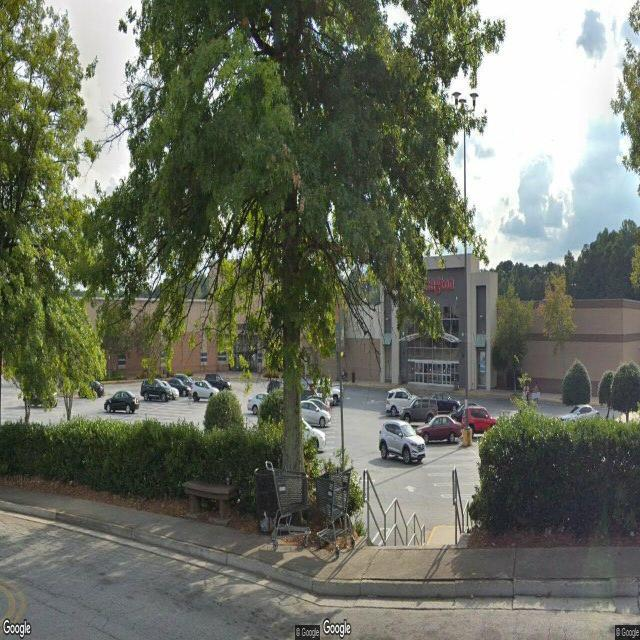seating: (182, 478, 238, 528)
trash_can: (254, 466, 278, 536)
